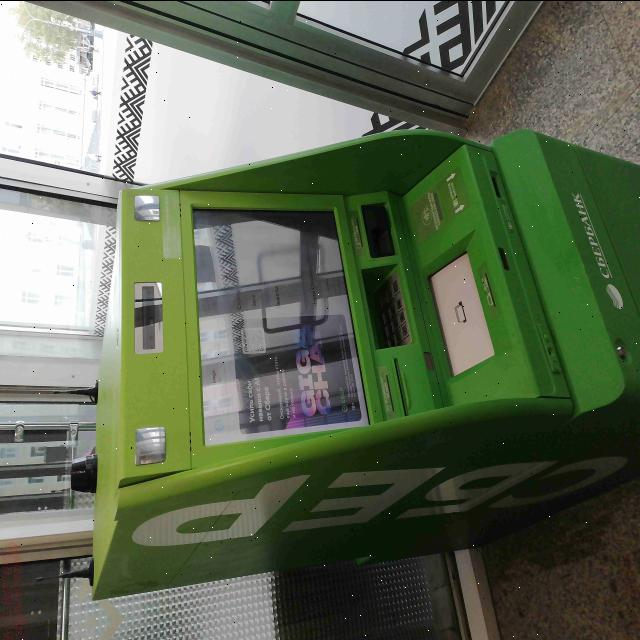bank: (94, 124, 640, 600)
